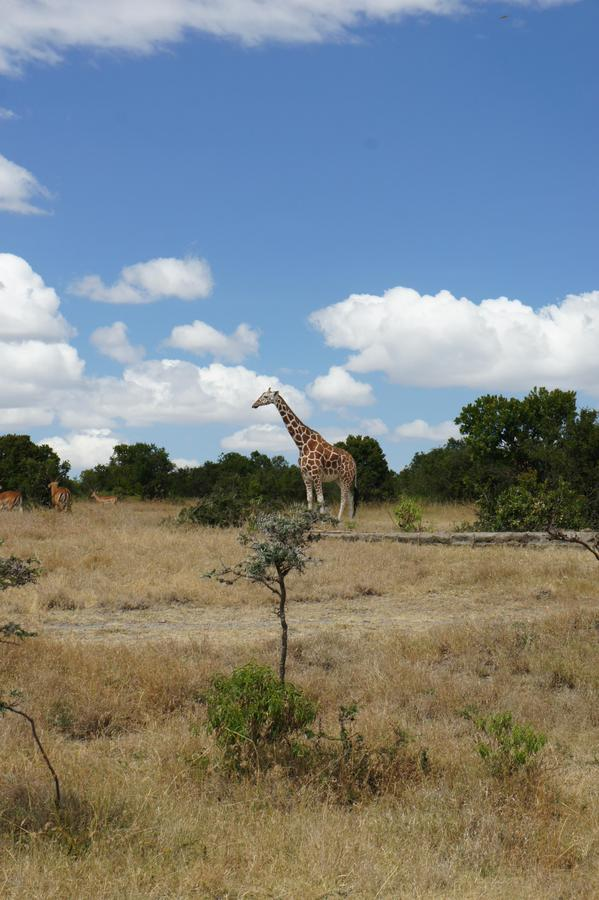giraffe: (251, 386, 364, 507)
